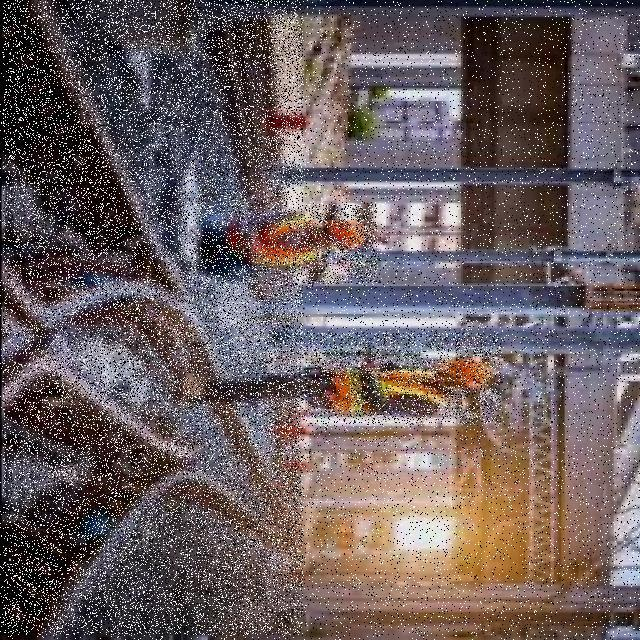danger: (167, 333, 501, 424), (199, 205, 378, 284)
rail: (3, 0, 303, 635)
